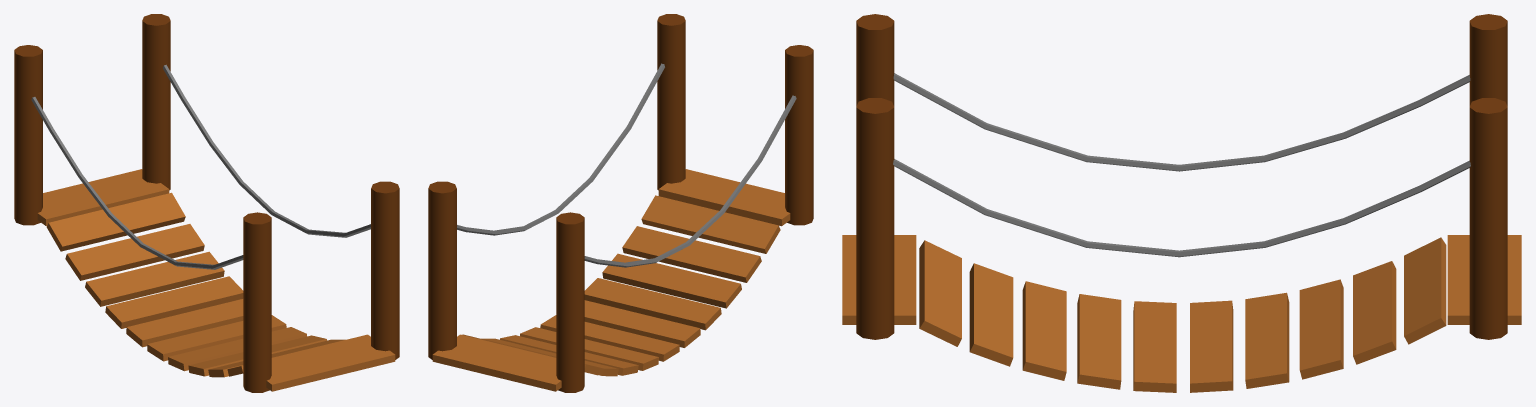
File: Bridge.FBX
3 views of the same model, side by side, from view 1: azimuth 30°, elevation 25°; view 2: azimuth 150°, elevation 25°; view 3: azimuth 270°, elevation 25° (orthographic). The views are drawn at different scales.
Visible parts, largest first — view 1: Poteau02, Poteau01, Planche10, End_Planche01, Planche09, Planche08, End_Planche02, Planche07, Liane, Planche06, Planche05, Planche04 (+2 smaller); view 2: Poteau01, Poteau02, Planche01, End_Planche02, End_Planche01, Planche02, Planche03, Planche04, Liane, Planche05, Planche06, Planche07 (+2 smaller); view 3: Poteau01, Poteau02, Liane, Planche03, Planche04, Planche02, Planche07, Planche08, Planche05, Planche06, Planche09, Planche10 (+3 smaller).
Part boxes in pixels (x1=…): Poteau02: x1=243, y1=181, x2=399, y2=392; Poteau01: x1=14, y1=14, x2=170, y2=225; Planche10: x1=46, y1=192, x2=185, y2=251; End_Planche01: x1=266, y1=334, x2=395, y2=391; Planche09: x1=65, y1=224, x2=204, y2=280; Planche08: x1=85, y1=251, x2=224, y2=306; End_Planche02: x1=37, y1=169, x2=169, y2=226; Planche07: x1=105, y1=276, x2=243, y2=328; Liane: x1=31, y1=64, x2=370, y2=269; Planche06: x1=126, y1=299, x2=243, y2=347; Planche05: x1=147, y1=315, x2=286, y2=361; Planche04: x1=168, y1=327, x2=306, y2=371; Poteau01: x1=428, y1=181, x2=584, y2=392; Poteau02: x1=657, y1=14, x2=813, y2=225; Planche01: x1=641, y1=195, x2=780, y2=253; End_Planche02: x1=432, y1=334, x2=561, y2=391; End_Planche01: x1=658, y1=169, x2=790, y2=226; Planche02: x1=622, y1=226, x2=761, y2=282; Planche03: x1=602, y1=253, x2=741, y2=308; Planche04: x1=584, y1=278, x2=721, y2=330; Liane: x1=457, y1=63, x2=796, y2=267; Planche05: x1=584, y1=300, x2=700, y2=347; Planche06: x1=540, y1=315, x2=679, y2=361; Planche07: x1=520, y1=327, x2=658, y2=370; Poteau01: x1=1469, y1=14, x2=1507, y2=339; Poteau02: x1=856, y1=14, x2=894, y2=339; Liane: x1=893, y1=73, x2=1470, y2=257; Planche03: x1=1022, y1=281, x2=1066, y2=380; Planche04: x1=1077, y1=294, x2=1121, y2=389; Planche02: x1=969, y1=263, x2=1013, y2=366; Planche07: x1=1245, y1=292, x2=1289, y2=388; Planche08: x1=1299, y1=279, x2=1343, y2=379; Planche05: x1=1133, y1=301, x2=1176, y2=392; Planche06: x1=1190, y1=300, x2=1233, y2=392; Planche09: x1=1353, y1=261, x2=1396, y2=364; Planche10: x1=1404, y1=237, x2=1446, y2=344.
Bounding box in the file's own units: 100 × 135 × 287.
